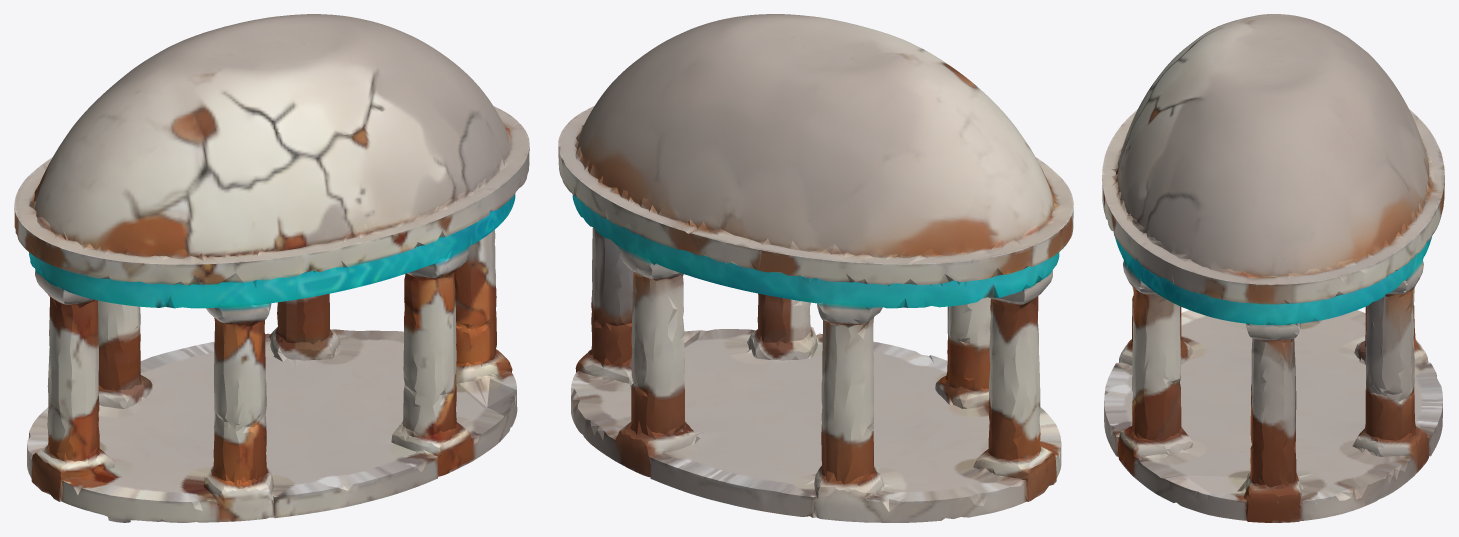
Rendered from Atlantis_TempleDome.glb.
3 views of the same model, side by side, from view 1: azimuth 30°, elevation 25°; view 2: azimuth 150°, elevation 25°; view 3: azimuth 270°, elevation 25° (orthographic). The views are drawn at different scales.
Parts seen in each view (by area): view 1: Atlantis_TempleDome; view 2: Atlantis_TempleDome; view 3: Atlantis_TempleDome.
Boxes of the visible parts, x1,y1,x2,y2 form: Atlantis_TempleDome: [14, 14, 529, 522]; Atlantis_TempleDome: [558, 14, 1073, 522]; Atlantis_TempleDome: [1102, 14, 1444, 522].
Bounding box in the file's own units: 4.6 × 3.62 × 3.06.
Materials: 1 (1 with a texture image).
